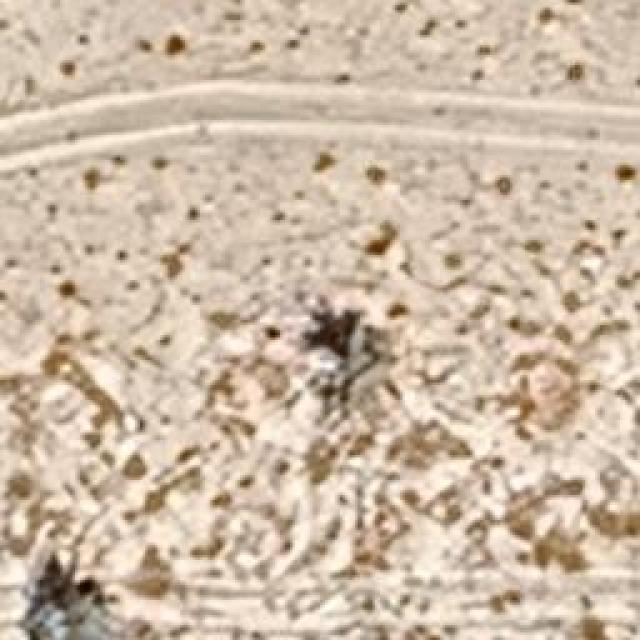PalmTree: (320, 304, 405, 418), (21, 562, 114, 640)
